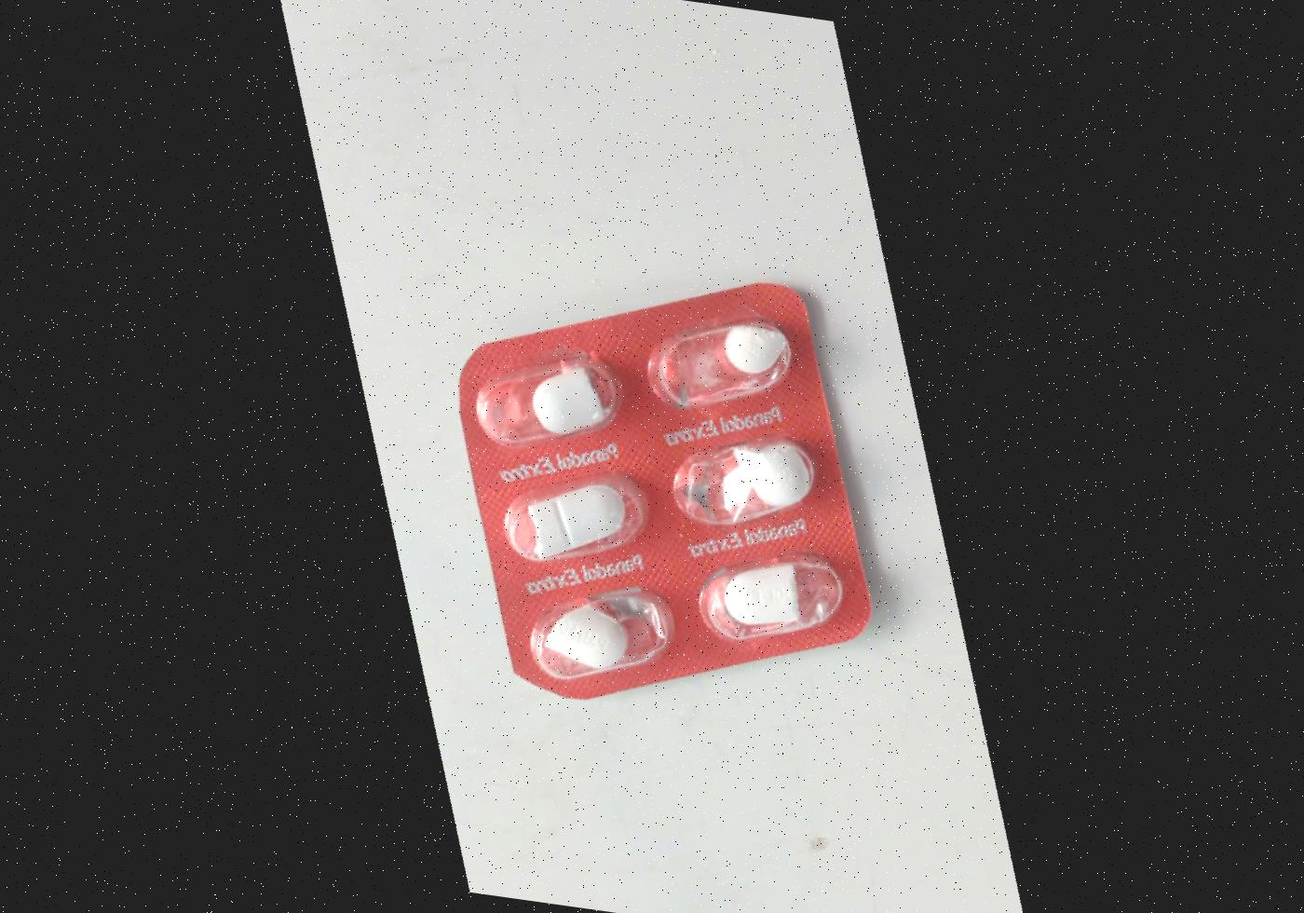Partial: (515, 566, 690, 702), (480, 453, 655, 589), (634, 283, 809, 419), (463, 329, 638, 465), (688, 524, 863, 659), (652, 410, 826, 545)
